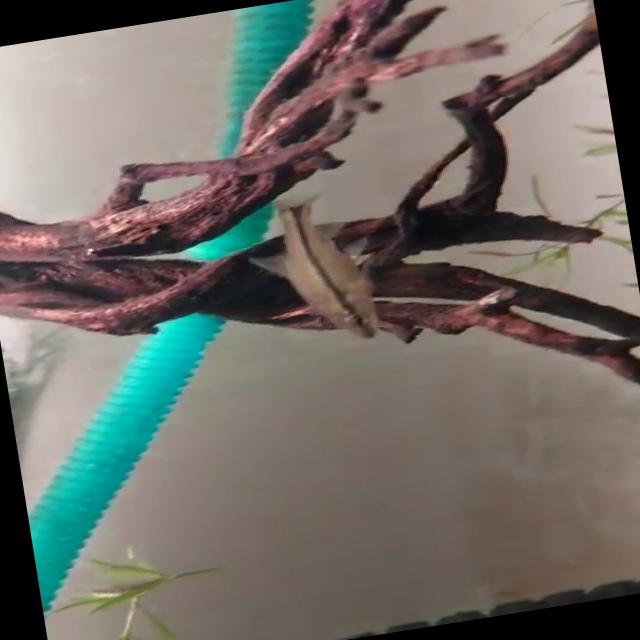Cakil Baligi: (228, 187, 385, 362)
